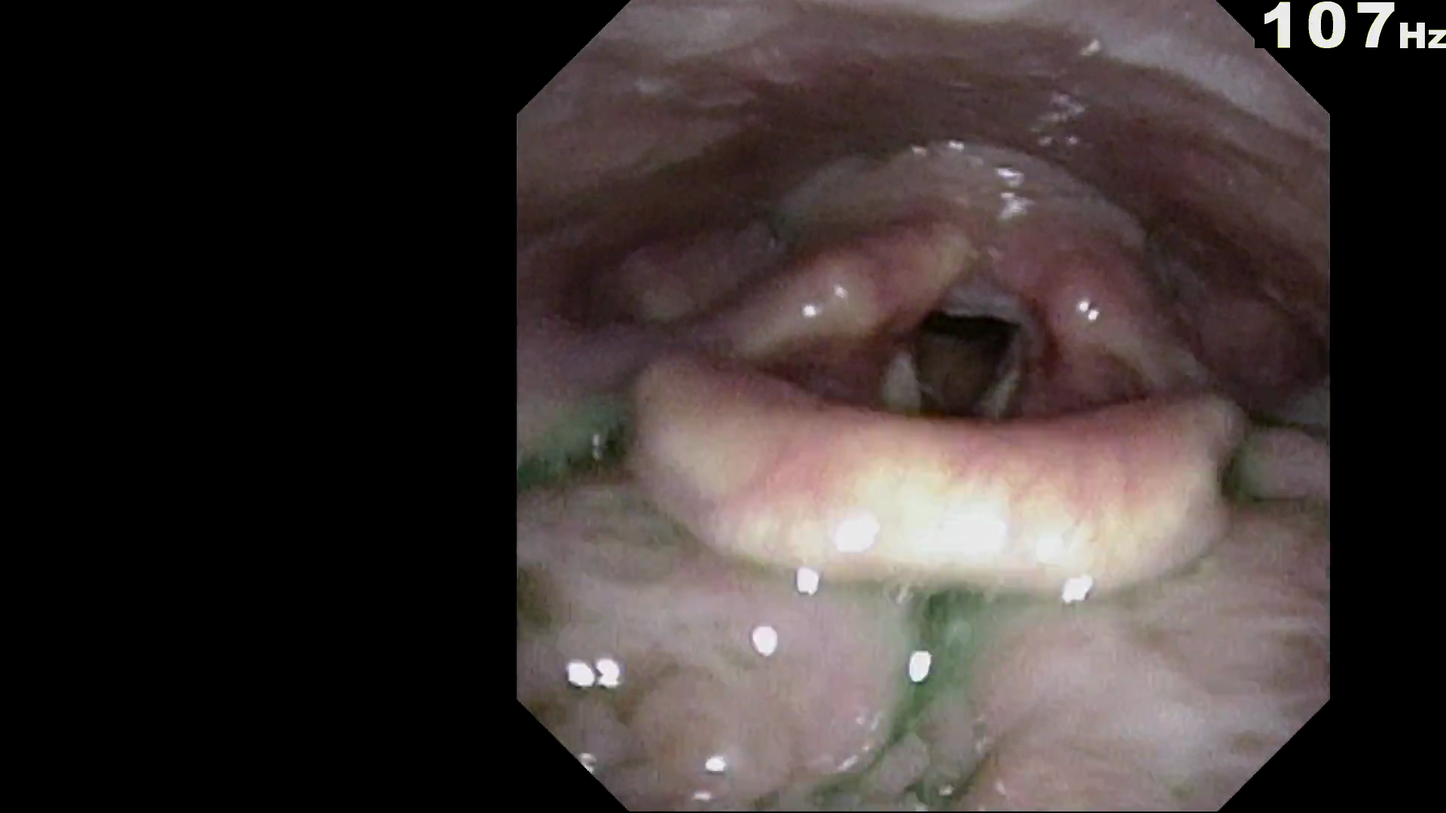epiglottis: (612, 351, 1276, 598)
trachea: (911, 289, 1025, 434)
